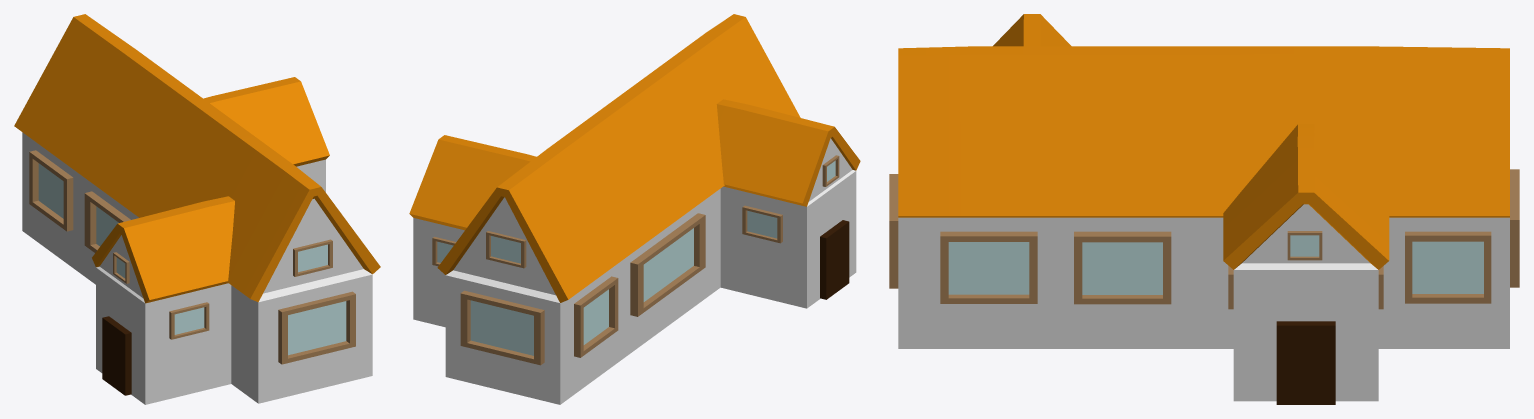
The model's file is House_Orange.fbx.
3 views of the same model, side by side, from view 1: azimuth 30°, elevation 25°; view 2: azimuth 150°, elevation 25°; view 3: azimuth 270°, elevation 25° (orthographic). The views are drawn at different scales.
Visible parts, largest first — view 1: pCube25; view 2: pCube25; view 3: pCube25.
Boxes of the visible parts, x1=… form: pCube25: x1=14, y1=14, x2=380, y2=404; pCube25: x1=409, y1=14, x2=860, y2=404; pCube25: x1=889, y1=14, x2=1519, y2=404.
Bounding box in the file's own units: 30.18 × 19.72 × 42.93.
